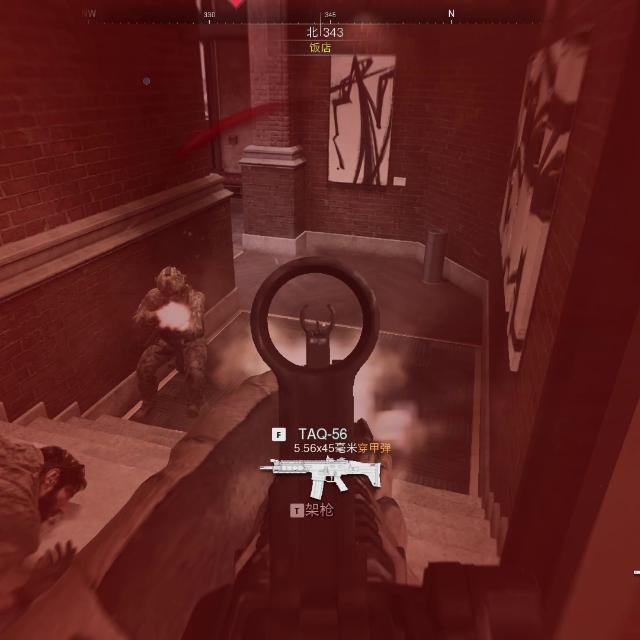MW2_body: (134, 268, 209, 418)
